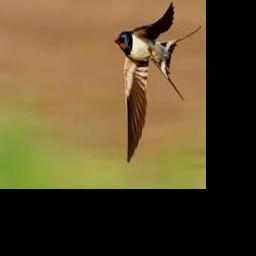Swallow: (114, 2, 201, 163)
